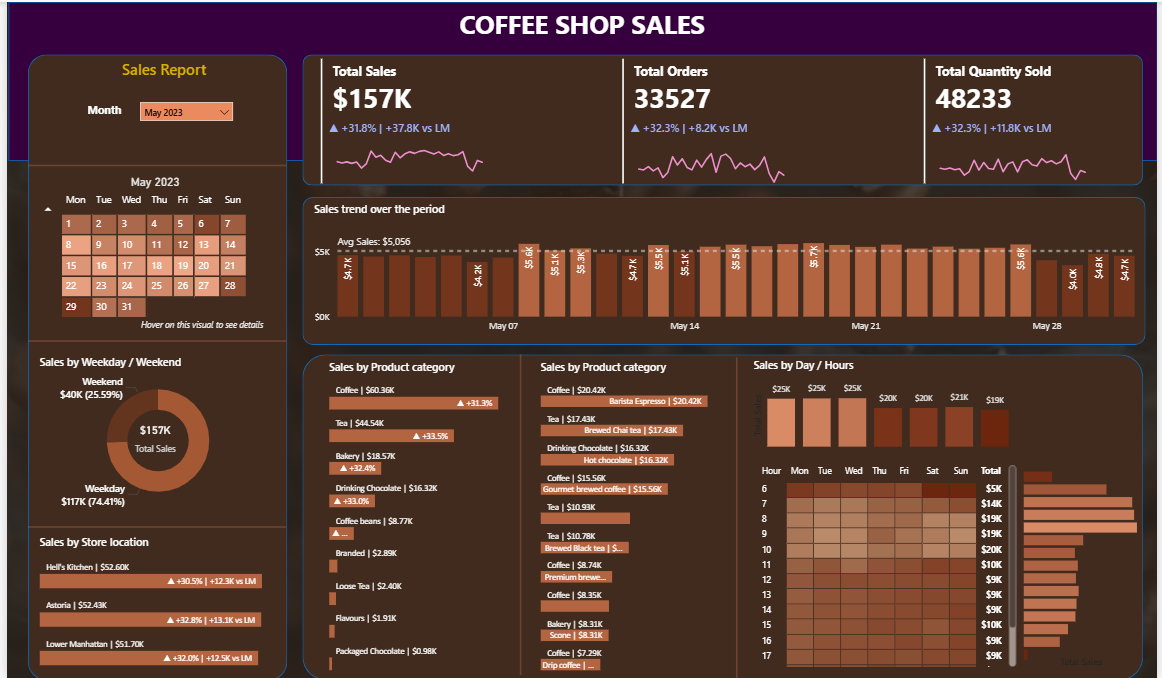

The page's visual inventory and layout, read from the dashboard file:
{"tool":"powerbi","page":{"name":"Page 1","canvas":[1440,850],"ordinal":0},"visuals":[{"type":"shape","box":[1.9,0,1438.4,199],"z":0},{"type":"shape","box":[26.2,65.6,324.5,783.4],"z":1000},{"type":"shape","box":[370.4,65.6,1052.2,163.9],"z":2000},{"type":"textbox","box":[524.6,0,391.9,64.8],"z":3000},{"type":"cardVisual","fields":{"Data":["Transactions.Total Sales"]},"box":[378.3,65.5,268.1,166.8],"z":4000,"group":"g1"},{"type":"cardVisual","fields":{"Data":["Transactions.Total Orders"]},"box":[755.7,65.5,268.1,166.8],"z":4000,"group":"g2"},{"type":"cardVisual","fields":{"Data":["Transactions.Total Quantity Sold"]},"box":[1133,65.5,268.1,166.8],"z":4000,"group":"g3"},{"type":"slicer","fields":{"Values":["Date Table.Month Year"]},"box":[161,119.5,126.5,43.2],"z":4000},{"type":"group","id":"g1","title":"Group 1","box":[378.3,65.5,268.1,166.8],"z":5000},{"type":"group","id":"g2","title":"Group 1","box":[755.7,65.5,268.1,166.8],"z":6000},{"type":"lineChart","fields":{"Y":["Transactions.Total Sales"],"Category":["Date Table.Date.Variation.Date Hierarchy.Year","Date Table.Date.Variation.Date Hierarchy.Quarter","Date Table.Date.Variation.Date Hierarchy.Month","Date Table.Date.Variation.Date Hierarchy.Day"]},"box":[399.2,148.9,211.5,83.4],"z":6000,"group":"g1"},{"type":"lineChart","fields":{"Category":["Date Table.Date.Variation.Date Hierarchy.Year","Date Table.Date.Variation.Date Hierarchy.Quarter","Date Table.Date.Variation.Date Hierarchy.Month","Date Table.Date.Variation.Date Hierarchy.Day"],"Y":["Transactions.Total Orders"]},"box":[776.6,148.9,211.5,83.4],"z":6000,"group":"g2"},{"type":"lineChart","fields":{"Category":["Date Table.Date.Variation.Date Hierarchy.Year","Date Table.Date.Variation.Date Hierarchy.Quarter","Date Table.Date.Variation.Date Hierarchy.Month","Date Table.Date.Variation.Date Hierarchy.Day"],"Y":["Transactions.Total Quantity Sold"]},"box":[1153.9,148.9,211.5,83.4],"z":6000,"group":"g3"},{"type":"group","id":"g3","title":"Group 1","box":[1133,65.5,268.1,166.8],"z":7000},{"type":"pivotTable","fields":{"Rows":["Date Table.Week Number"],"Columns":["Date Table.Day Name"],"Values":["Min(Date Table.Day Number)"]},"box":[37,231.4,302.4,206.7],"z":8000},{"type":"card","fields":{"Values":["Min(Date Table.Month Year)"]},"box":[129.6,209.8,111.1,30.9],"z":9000},{"type":"card","fields":{"Values":["Transactions.Foot Note"]},"box":[138.9,385.7,209.8,43.2],"z":10000},{"type":"shape","box":[26.2,411,323.6,26.2],"z":11000},{"type":"shape","box":[26.2,192.4,323.6,26.2],"z":12000},{"type":"donutChart","title":"Sales by Weekday / Weekend","fields":{"Category":["Date Table.Weekday / Weekend"],"Y":["Transactions.Total Sales"]},"box":[35,441.1,306.1,196.8],"z":13000},{"type":"card","fields":{"Values":["Transactions.Total Sales"]},"box":[56.8,494.1,258,100.6],"z":14000},{"type":"shape","box":[26.3,644.1,323,26.3],"z":15000},{"type":"clusteredBarChart","title":"Sales by Store location","fields":{"Category":["Transactions.store_location"],"Y":["Transactions.Placeholder","Transactions.Total Sales"]},"box":[35.7,666.6,313.6,170.9],"z":16000},{"type":"shape","box":[370.3,243.8,1055.3,185.1],"z":17000},{"type":"shape","box":[370.3,441.3,1052.3,407.3],"z":18000},{"type":"columnChart","title":"Sales trend over the period","fields":{"Category":["Transactions.transaction_date"],"Y":["Transactions.Total Sales"]},"box":[379.6,249.9,1043,172.8],"z":19000},{"type":"clusteredBarChart","title":"Sales by Product category","fields":{"Y":["Transactions.Placeholder","Transactions.Total Sales"],"Category":["Transactions.product_category"]},"box":[398.1,447.4,249.9,395],"z":20000},{"type":"shape","box":[629.5,441.3,27.8,401.2],"z":21000},{"type":"clusteredBarChart","title":"Sales by Product category","fields":{"Y":["Transactions.Placeholder","Transactions.Total Sales"],"Category":["Transactions.product_type"]},"box":[663.4,447.4,249.9,395],"z":22000},{"type":"shape","box":[900.2,444.2,28.2,401.9],"z":23000},{"type":"pivotTable","fields":{"Rows":["Transactions.Hour"],"Columns":["Date Table.Day Name"],"Values":["Transactions.Total Sales"]},"box":[935,574,333.3,262.3],"z":24000},{"type":"barChart","fields":{"Category":["Transactions.Hour"],"Y":["Transactions.Total Sales"]},"box":[1268.3,574,154.3,262.3],"z":25000},{"type":"columnChart","title":"Sales by Day / Hours","fields":{"Y":["Transactions.Total Sales"],"Category":["Date Table.Day Name"]},"box":[928.8,444.4,330.2,117.3],"z":26000},{"type":"textbox","box":[96.2,119.5,74.1,43.2],"z":27000},{"type":"textbox","box":[138.9,64.8,145,55.5],"z":28000}]}

Visuals, with their boxes in screenshot pixels (x1, y1, x2, y2), scaled from the page's 1440x850 canvas onto the 1162x678 screenshot:
shape: detection(2, 0, 1161, 159)
shape: detection(21, 52, 283, 677)
shape: detection(299, 52, 1148, 183)
textbox: detection(423, 0, 740, 52)
cardVisual - Transactions.Total Sales: detection(305, 52, 522, 185)
cardVisual - Transactions.Total Orders: detection(610, 52, 826, 185)
cardVisual - Transactions.Total Quantity Sold: detection(914, 52, 1131, 185)
slicer - Date Table.Month Year: detection(130, 95, 232, 130)
"Group 1" group: detection(305, 52, 522, 185)
"Group 1" group: detection(610, 52, 826, 185)
lineChart - Transactions.Total Sales x Date Table.Date.Variation.Date Hierarchy.Year: detection(322, 119, 493, 185)
lineChart - Date Table.Date.Variation.Date Hierarchy.Year x Date Table.Date.Variation.Date Hierarchy.Quarter: detection(627, 119, 797, 185)
lineChart - Date Table.Date.Variation.Date Hierarchy.Year x Date Table.Date.Variation.Date Hierarchy.Quarter: detection(931, 119, 1102, 185)
"Group 1" group: detection(914, 52, 1131, 185)
pivotTable - Date Table.Week Number x Date Table.Day Name: detection(30, 185, 274, 349)
card - Min(Date Table.Month Year): detection(105, 167, 194, 192)
card - Transactions.Foot Note: detection(112, 308, 281, 342)
shape: detection(21, 328, 282, 349)
shape: detection(21, 153, 282, 174)
"Sales by Weekday / Weekend" donutChart: detection(28, 352, 275, 509)
card - Transactions.Total Sales: detection(46, 394, 254, 474)
shape: detection(21, 514, 282, 535)
"Sales by Store location" clusteredBarChart: detection(29, 532, 282, 668)
shape: detection(299, 194, 1150, 342)
shape: detection(299, 352, 1148, 677)
"Sales trend over the period" columnChart: detection(306, 199, 1148, 337)
"Sales by Product category" clusteredBarChart: detection(321, 357, 523, 672)
shape: detection(508, 352, 530, 672)
"Sales by Product category" clusteredBarChart: detection(535, 357, 737, 672)
shape: detection(726, 354, 749, 675)
pivotTable - Transactions.Hour x Date Table.Day Name: detection(754, 458, 1023, 667)
barChart - Transactions.Hour x Transactions.Total Sales: detection(1023, 458, 1148, 667)
"Sales by Day / Hours" columnChart: detection(749, 354, 1016, 448)
textbox: detection(78, 95, 137, 130)
textbox: detection(112, 52, 229, 96)
